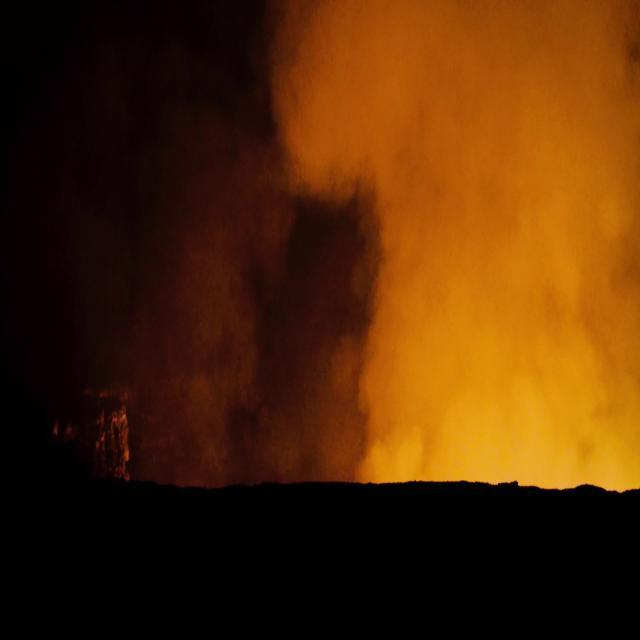Smoke: (271, 2, 640, 470), (61, 21, 270, 418)
